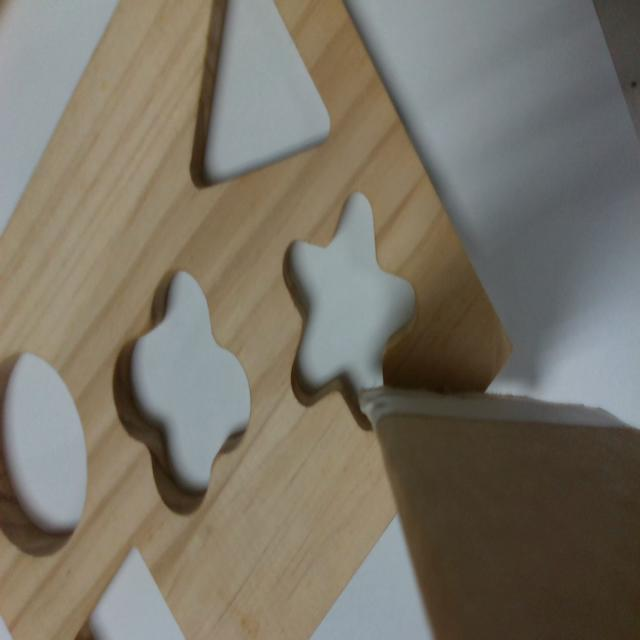circle: (1, 347, 87, 556)
flower: (113, 269, 253, 515)
square: (72, 545, 187, 639)
star: (284, 191, 416, 431)
triangle: (187, 1, 332, 192)
